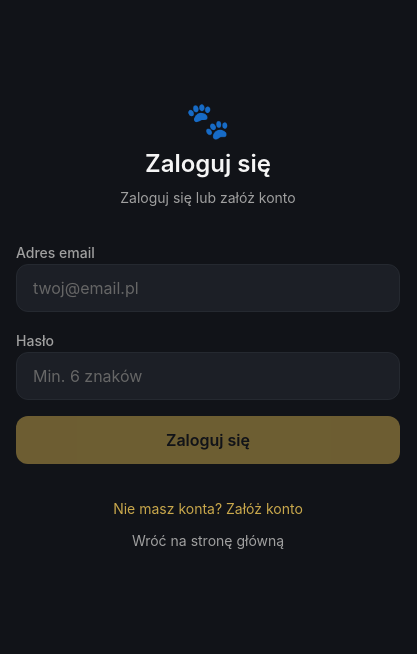
Scenario: AuthPage › toggles to register mode when clicking toggle
Click the button "Nie masz konta? Załóż konto". click: click(208, 508)
box: [113,498,303,518]
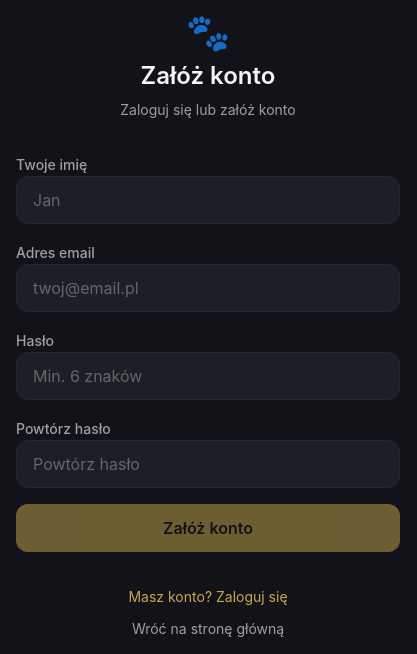
Expected: the button "Masz konto? Zaloguj się" is shown, [128,586,288,606]
Expected: the field labelled "Twoje imię" is shown, [16,176,400,224]
Expected: the password field labelled "Powtórz hasło" is shown, [16,440,400,488]
